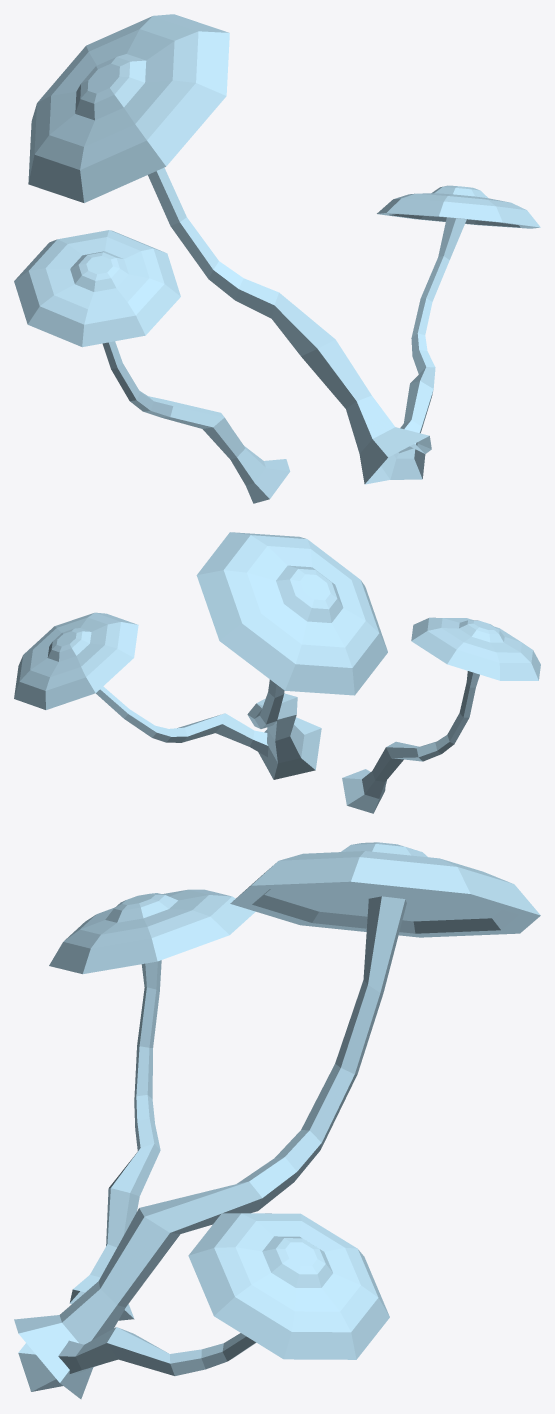
The model's file is Mushrooms_07.fbx.
The picture shows the model from 3 angles, top to bottom: view 1: azimuth 30°, elevation 25°; view 2: azimuth 150°, elevation 25°; view 3: azimuth 270°, elevation 25°; orthographic projection. The views are drawn at different scales.
Parts seen in each view (by area): view 1: Mushrooms_07; view 2: Mushrooms_07; view 3: Mushrooms_07.
Part boxes in pixels (bbox=[...]): Mushrooms_07: bbox=[14, 14, 540, 503]; Mushrooms_07: bbox=[14, 532, 540, 813]; Mushrooms_07: bbox=[14, 842, 540, 1399].
Bounding box in the file's own units: 1.5 × 0.974 × 1.
